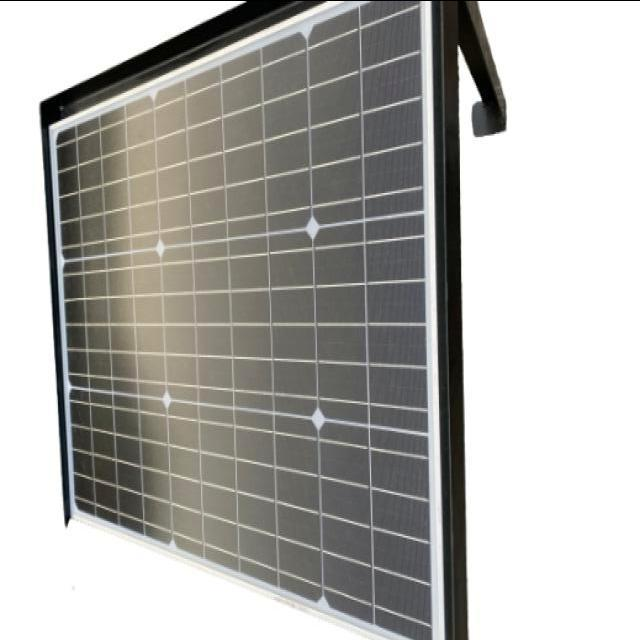no faulty: (55, 8, 445, 640)
